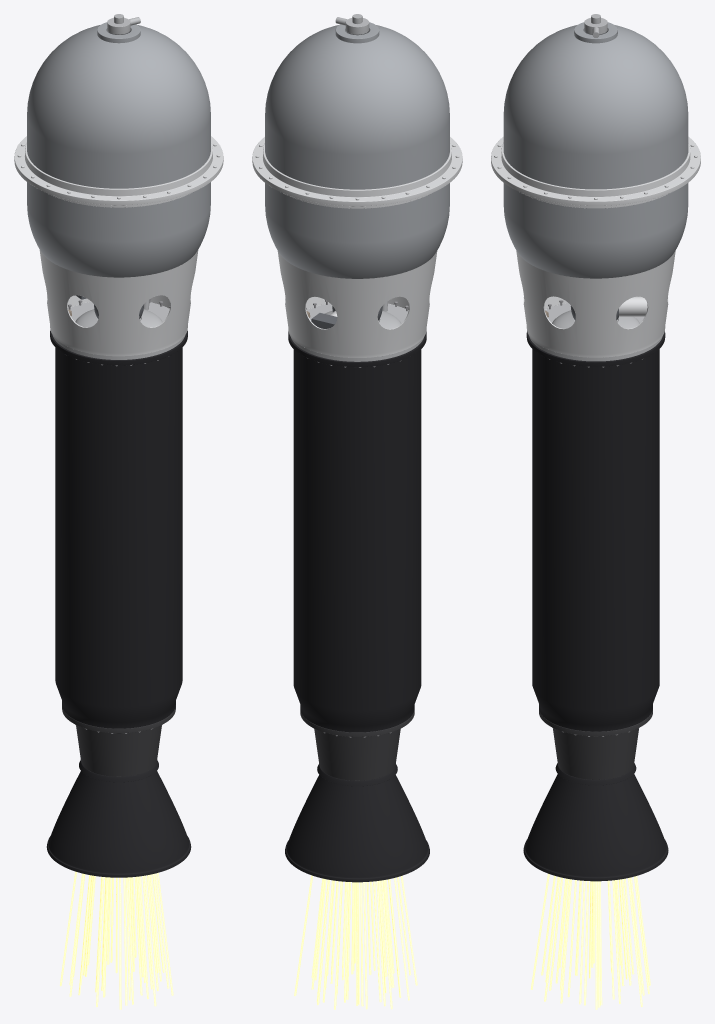
The model's file is hybrid_d.glb.
3 views of the same model, side by side, from view 1: azimuth 30°, elevation 25°; view 2: azimuth 150°, elevation 25°; view 3: azimuth 270°, elevation 25° (orthographic).
Parts seen in each view (by area): view 1: HY_Case, HY_OxidizerTank, HY_ExitCone, HY_ThrustSkirt, HY_FLOW_HotGas, HY_ThrustFlange, HY_Throat, HY_Injector; view 2: HY_Case, HY_OxidizerTank, HY_ExitCone, HY_ThrustSkirt, HY_FLOW_HotGas, HY_ThrustFlange, HY_Throat, HY_Injector, HY_FillVent; view 3: HY_Case, HY_OxidizerTank, HY_ExitCone, HY_ThrustSkirt, HY_FLOW_HotGas, HY_ThrustFlange, HY_Throat, HY_Injector, HY_ValveOxidizer.
Part boxes in pixels (box(x1,y1,x2,y2)): HY_Case: box(50, 330, 187, 728); HY_OxidizerTank: box(27, 22, 210, 277); HY_ExitCone: box(46, 760, 191, 877); HY_ThrustSkirt: box(39, 250, 198, 356); HY_FLOW_HotGas: box(59, 871, 173, 1009); HY_ThrustFlange: box(14, 136, 223, 207); HY_Throat: box(62, 705, 175, 776); HY_Injector: box(52, 301, 185, 359); HY_Case: box(288, 331, 426, 732); HY_OxidizerTank: box(265, 22, 449, 278); HY_ExitCone: box(285, 764, 429, 882); HY_ThrustSkirt: box(277, 251, 437, 357); HY_FLOW_HotGas: box(294, 875, 417, 1009); HY_ThrustFlange: box(252, 137, 462, 208); HY_Throat: box(300, 710, 414, 780); HY_Injector: box(291, 303, 423, 361); HY_FillVent: box(335, 14, 369, 34); HY_Case: box(526, 331, 665, 731); HY_OxidizerTank: box(503, 22, 688, 278); HY_ExitCone: box(523, 763, 668, 881); HY_ThrustSkirt: box(516, 251, 675, 357); HY_FLOW_HotGas: box(530, 873, 650, 1009); HY_ThrustFlange: box(491, 136, 700, 208); HY_Throat: box(539, 710, 652, 779); HY_Injector: box(529, 302, 662, 361); HY_ValveOxidizer: box(570, 296, 647, 321).
Size of the model in its own units: 1.25 by 6.38 by 1.25.
